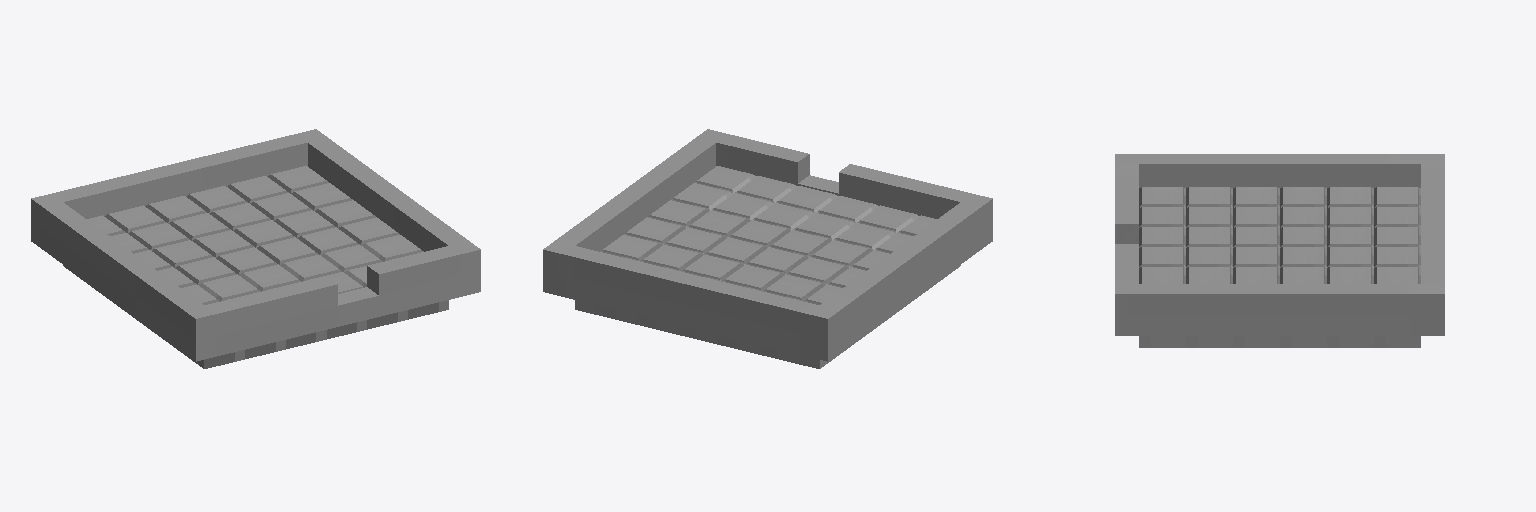
The picture shows the model from 3 angles: view 1: azimuth 30°, elevation 25°; view 2: azimuth 150°, elevation 25°; view 3: azimuth 270°, elevation 25°; orthographic projection.
Parts seen in each view (by area): view 1: Cube.008, Cube.004; view 2: Cube.008, Cube.004; view 3: Cube.008, Cube.004.
Boxes of the visible parts, x1,y1,x2,y2 form: Cube.008: [31, 129, 480, 361]; Cube.004: [63, 166, 448, 368]; Cube.008: [543, 129, 992, 361]; Cube.004: [575, 166, 960, 368]; Cube.008: [1115, 154, 1444, 335]; Cube.004: [1139, 187, 1420, 347].
Bounding box in the file's own units: 14 × 3 × 14.
1 materials, 1 textured.